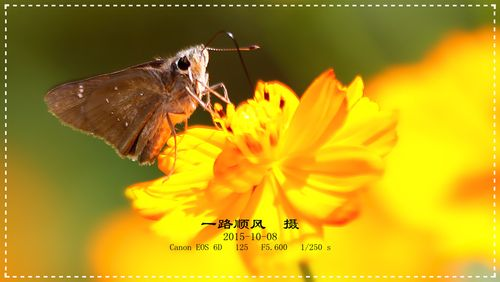Hesperiidae: (35, 23, 272, 171)
